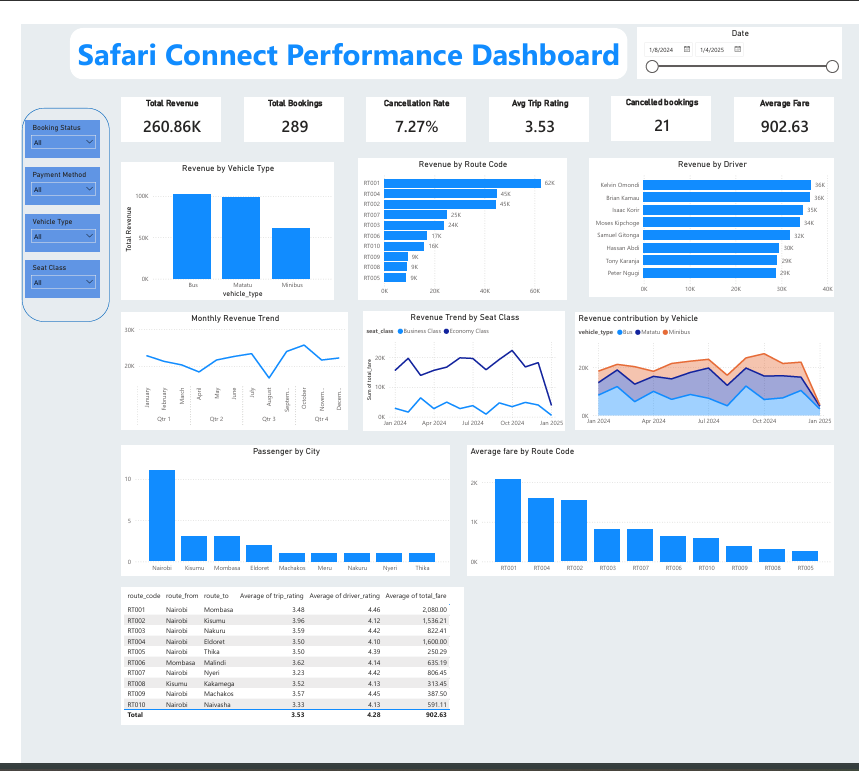

The dashboard page shown, as its layout file describes it:
{"tool":"powerbi","page":{"name":"Dashboard","canvas":[1700,1400],"ordinal":2},"visuals":[{"type":"shape","box":[0,165,175,427.5],"z":0},{"type":"cardVisual","title":"Total Revenue","fields":{"Data":["Sum(safari_connect v_clean_trips.total_fare)"]},"box":[200,145.9,200,90],"z":1000},{"type":"cardVisual","title":"Cancelled bookings","fields":{"Data":["drivers.overall cancellation rate"]},"box":[1180,144,200,90],"z":2000},{"type":"cardVisual","title":"Total Bookings","fields":{"Data":["safari_connect v_clean_trips.booking_measure"]},"box":[445,145.9,200,90],"z":3000},{"type":"cardVisual","title":"Cancellation Rate","fields":{"Data":["safari_connect v_clean_trips.cancelation_rate"]},"box":[690,145.9,200,90],"z":4000},{"type":"cardVisual","title":"Avg Trip Rating","fields":{"Data":["Avg(safari_connect v_clean_trips.trip_rating)"]},"box":[935,145.9,200,90],"z":5000},{"type":"lineChart","title":"Monthly Revenue Trend","fields":{"Category":["safari_connect v_clean_trips.departure_date.Variation.Date Hierarchy.Quarter","safari_connect v_clean_trips.departure_date.Variation.Date Hierarchy.Month"],"Y":["safari_connect v_clean_trips.Total Revenue"]},"box":[200,576.9,453.3,235],"z":6000},{"type":"clusteredBarChart","title":"Revenue by Route Code","fields":{"Category":["safari_connect v_route_performance.route_code"],"Y":["Sum(safari_connect v_route_performance.revenue_by_route_code)"]},"box":[673.3,268.3,416.7,283.3],"z":7000},{"type":"slicer","fields":{"Values":["vehicle_type.vehicle_type"]},"box":[8.3,379.2,150,75],"z":8000},{"type":"slicer","fields":{"Values":["safari_connect v_clean_trips.seat_class"]},"box":[8.3,472.5,150,75],"z":9000},{"type":"slicer","fields":{"Values":["safari_connect v_clean_trips.booking_status"]},"box":[8.3,192.5,150,75],"z":10000},{"type":"slicer","fields":{"Values":["safari_connect v_clean_trips.payment_method"]},"box":[8.3,285.8,150,75],"z":11000},{"type":"cardVisual","title":"Average Fare","fields":{"Data":["Avg(safari_connect v_clean_trips.total_fare)"]},"box":[1425,145.9,200,90],"z":12000},{"type":"lineChart","title":"Revenue Trend by Seat Class","fields":{"Category":["safari_connect v_clean_trips.departure_date.Variation.Date Hierarchy.Year","safari_connect v_clean_trips.departure_date.Variation.Date Hierarchy.Quarter","safari_connect v_clean_trips.departure_date.Variation.Date Hierarchy.Month"],"Y":["Sum(safari_connect v_clean_trips.total_fare)"],"Series":["safari_connect v_clean_trips.seat_class"]},"box":[684,574.4,404,240],"z":13000},{"type":"clusteredColumnChart","title":"Revenue by Vehicle Type","fields":{"Category":["vehicle_type.vehicle_type"],"Y":["safari_connect v_clean_trips.Total Revenue"]},"box":[200,276.7,425,275],"z":14000},{"type":"shape","title":"Safari Connect Performance Dashboard","box":[95,5,1115,102.5],"z":15000},{"type":"clusteredBarChart","title":"Revenue by Driver","fields":{"Y":["safari_connect v_clean_trips.Total Revenue"],"Category":["safari_connect v_driver_performance.driver_name"]},"box":[1135,268.3,490,278.3],"z":16000},{"type":"stackedAreaChart","title":"Revenue contribution by Vehicle ","fields":{"Category":["safari_connect v_clean_trips.departure_date.Variation.Date Hierarchy.Year","safari_connect v_clean_trips.departure_date.Variation.Date Hierarchy.Month"],"Y":["Sum(safari_connect v_clean_trips.total_fare)"],"Series":["vehicle_type.vehicle_type"]},"box":[1108.3,576.9,516.7,235],"z":17000},{"type":"clusteredColumnChart","title":"Passenger by City","fields":{"Category":["passengers.passenger_city"],"Y":["CountNonNull(passengers.passenger_id)"]},"box":[200,842.5,658.3,261.7],"z":18000},{"type":"columnChart","title":"Average fare by Route Code","fields":{"Y":["Avg(safari_connect v_clean_trips.total_fare)"],"Category":["safari_connect v_clean_trips.route_code"]},"box":[891.7,842.5,733.3,261.7],"z":19000},{"type":"tableEx","fields":{"Values":["safari_connect v_clean_trips.route_code","safari_connect v_clean_trips.route_from","safari_connect v_clean_trips.route_to","Avg(safari_connect v_clean_trips.trip_rating)","Avg(safari_connect v_clean_trips.driver_rating)","Avg(safari_connect v_clean_trips.total_fare)"]},"box":[200,1125,685,275],"z":20000},{"type":"slicer","title":"Date","fields":{"Values":["safari_connect v_clean_trips.departure_date"]},"box":[1232.5,5,410,102.5],"z":21000}]}

Visuals, with their boxes on the page's 1700x1400 design canvas (x1, y1, x2, y2). These are canvas units, not pixel positions in the 859x771 screenshot, which may show the page scaled, cropped or inside an application window:
shape: <region>0, 165, 175, 592</region>
"Total Revenue" cardVisual: <region>200, 146, 400, 236</region>
"Cancelled bookings" cardVisual: <region>1180, 144, 1380, 234</region>
"Total Bookings" cardVisual: <region>445, 146, 645, 236</region>
"Cancellation Rate" cardVisual: <region>690, 146, 890, 236</region>
"Avg Trip Rating" cardVisual: <region>935, 146, 1135, 236</region>
"Monthly Revenue Trend" lineChart: <region>200, 577, 653, 812</region>
"Revenue by Route Code" clusteredBarChart: <region>673, 268, 1090, 552</region>
slicer - vehicle_type.vehicle_type: <region>8, 379, 158, 454</region>
slicer - safari_connect v_clean_trips.seat_class: <region>8, 472, 158, 548</region>
slicer - safari_connect v_clean_trips.booking_status: <region>8, 192, 158, 268</region>
slicer - safari_connect v_clean_trips.payment_method: <region>8, 286, 158, 361</region>
"Average Fare" cardVisual: <region>1425, 146, 1625, 236</region>
"Revenue Trend by Seat Class" lineChart: <region>684, 574, 1088, 814</region>
"Revenue by Vehicle Type" clusteredColumnChart: <region>200, 277, 625, 552</region>
"Safari Connect Performance Dashboard" shape: <region>95, 5, 1210, 108</region>
"Revenue by Driver" clusteredBarChart: <region>1135, 268, 1625, 547</region>
"Revenue contribution by Vehicle " stackedAreaChart: <region>1108, 577, 1625, 812</region>
"Passenger by City" clusteredColumnChart: <region>200, 842, 858, 1104</region>
"Average fare by Route Code" columnChart: <region>892, 842, 1625, 1104</region>
tableEx - safari_connect v_clean_trips.route_code x safari_connect v_clean_trips.route_from: <region>200, 1125, 885, 1400</region>
"Date" slicer: <region>1232, 5, 1642, 108</region>
